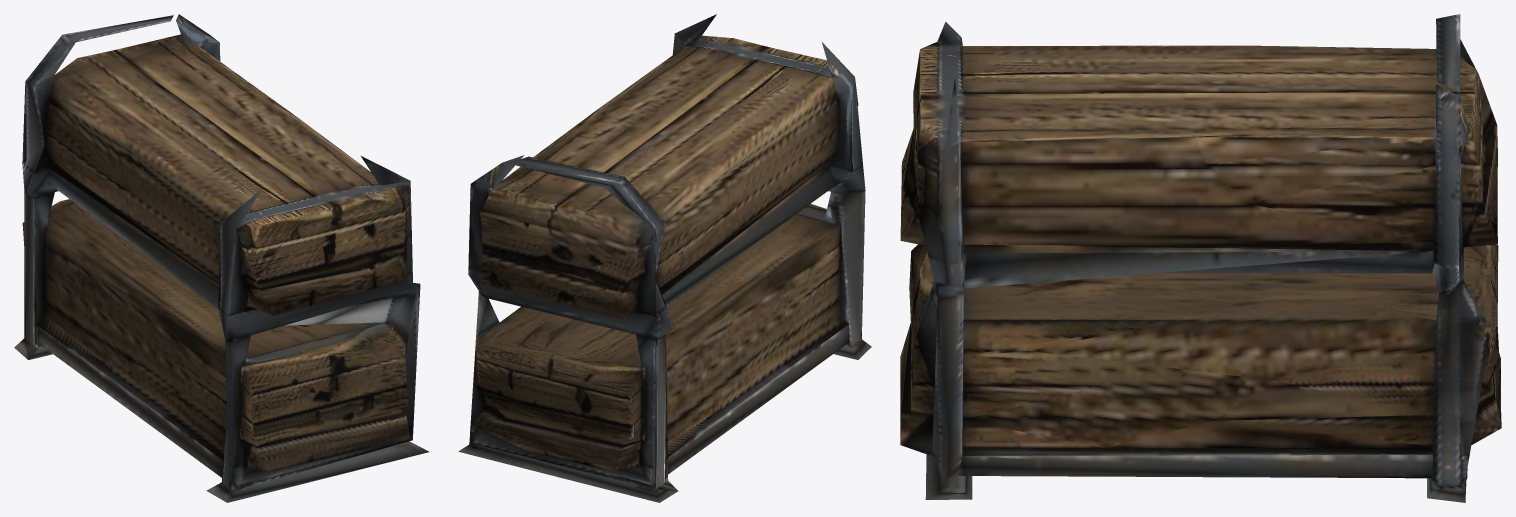
File: tripo_convert_f0656d22-099e-4d0d-b0d2-83699c812d90.fbx
The picture shows the model from 3 angles, left to right: view 1: azimuth 30°, elevation 25°; view 2: azimuth 150°, elevation 25°; view 3: azimuth 270°, elevation 25°; orthographic projection. The views are drawn at different scales.
Parts seen in each view (by area): view 1: tripo_node_f0656d22; view 2: tripo_node_f0656d22; view 3: tripo_node_f0656d22.
Part boxes in pixels (left/top/right/bottom): tripo_node_f0656d22: left=14, top=14, right=429, bottom=502; tripo_node_f0656d22: left=458, top=14, right=871, bottom=502; tripo_node_f0656d22: left=900, top=14, right=1501, bottom=502.
Bounding box in the file's own units: 0.5043 × 0.7137 × 0.9976.
Materials: 1 (1 with a texture image).
